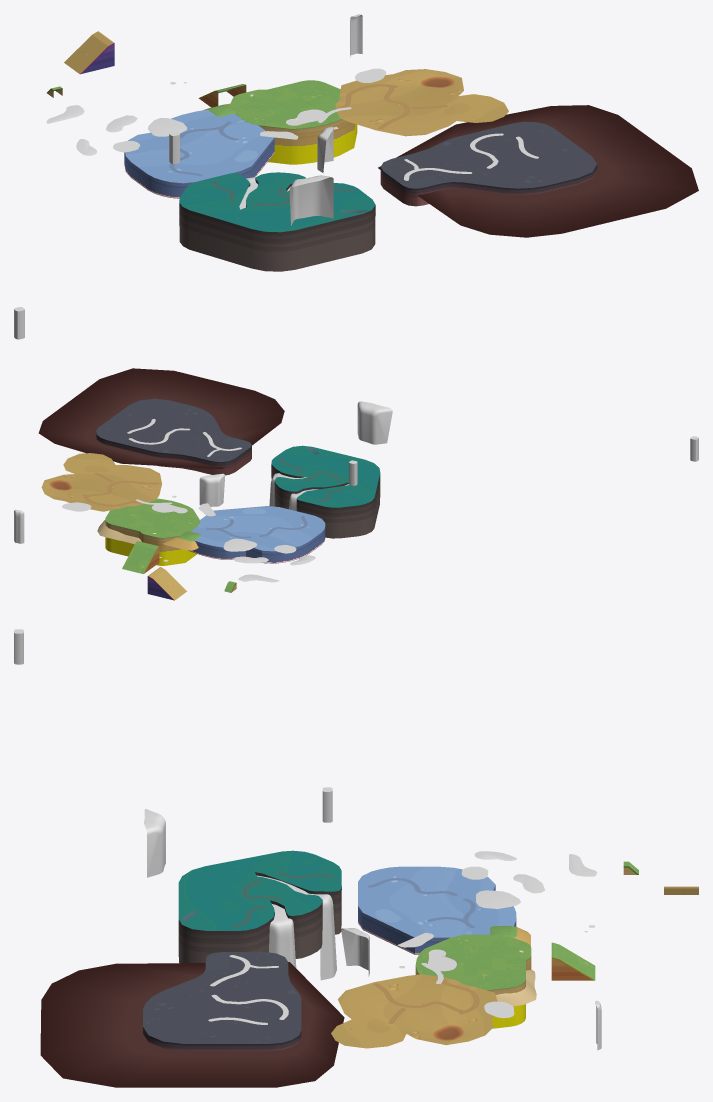
The model's file is Ground.fbx.
The picture shows the model from 3 angles, top to bottom: view 1: azimuth 30°, elevation 25°; view 2: azimuth 150°, elevation 25°; view 3: azimuth 270°, elevation 25°; orthographic projection. The views are drawn at different scales.
Visible parts, largest first — view 1: Ground_ST6_Under, Ground_S5, Ground_S6, Ground_S4, Ground_S2, Ground_S1, Waterfall.002, Uphill_02, ST6_Road, ST2_Road, Waterfall, Ground_S4_Snow.001 (+1 smaller); view 2: Ground_ST6_Under, Ground_S5, Ground_S6, Ground_S4, Ground_S2, Ground_S1, Waterfall.002, Uphill, Uphill_02, Waterfall, ST6_Road, BeachSand_small (+3 smaller); view 3: Ground_ST6_Under, Ground_S5, Ground_S6, Ground_S4, Ground_S2, Ground_S1, S5_Lake, Uphill, Waterfall.002, Waterfall, ST6_Road, ST2_Road.
Part boxes in pixels (x1=…): Ground_ST6_Under: x1=378, y1=105, x2=698, y2=237; Ground_S5: x1=179, y1=172, x2=375, y2=271; Ground_S6: x1=380, y1=121, x2=597, y2=206; Ground_S4: x1=124, y1=109, x2=274, y2=198; Ground_S2: x1=335, y1=69, x2=508, y2=136; Ground_S1: x1=229, y1=80, x2=357, y2=164; Waterfall.002: x1=289, y1=175, x2=333, y2=225; Uphill_02: x1=64, y1=31, x2=114, y2=74; ST6_Road: x1=404, y1=133, x2=538, y2=180; ST2_Road: x1=339, y1=84, x2=447, y2=129; Waterfall: x1=317, y1=126, x2=333, y2=172; Ground_S4_Snow.001: x1=148, y1=118, x2=187, y2=136; Ground_ST6_Under: x1=38, y1=368, x2=284, y2=469; Ground_S5: x1=271, y1=445, x2=380, y2=538; Ground_S6: x1=96, y1=398, x2=251, y2=475; Ground_S4: x1=188, y1=506, x2=325, y2=563; Ground_S2: x1=41, y1=453, x2=161, y2=511; Ground_S1: x1=105, y1=498, x2=199, y2=565; Waterfall.002: x1=357, y1=401, x2=392, y2=444; Uphill: x1=122, y1=541, x2=159, y2=573; Uphill_02: x1=147, y1=567, x2=186, y2=600; Waterfall: x1=199, y1=473, x2=225, y2=506; ST6_Road: x1=127, y1=419, x2=241, y2=456; BeachSand_small: x1=163, y1=531, x2=201, y2=550; Ground_ST6_Under: x1=40, y1=962, x2=344, y2=1087; Ground_S5: x1=178, y1=850, x2=341, y2=963; Ground_S6: x1=143, y1=952, x2=301, y2=1050; Ground_S4: x1=358, y1=866, x2=516, y2=954; Ground_S2: x1=331, y1=974, x2=497, y2=1048; Ground_S1: x1=415, y1=934, x2=531, y2=1028; S5_Lake: x1=257, y1=875, x2=336, y2=980; Uphill: x1=551, y1=942, x2=595, y2=980; Waterfall.002: x1=144, y1=809, x2=165, y2=877; Waterfall: x1=341, y1=928, x2=369, y2=976; ST6_Road: x1=208, y1=955, x2=288, y2=1024; ST2_Road: x1=373, y1=979, x2=479, y2=1023.
Bounding box in the file's own units: 329 × 57.4 × 247.
